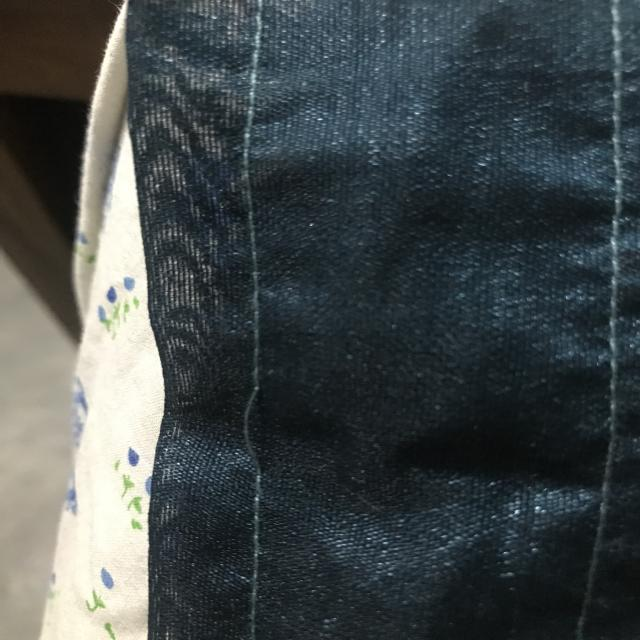skip: (215, 370, 294, 489)
